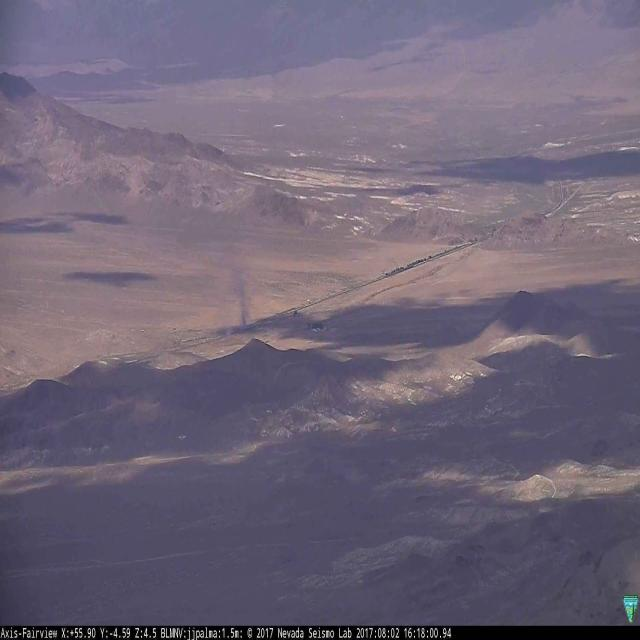smoke: (210, 241, 256, 340)
